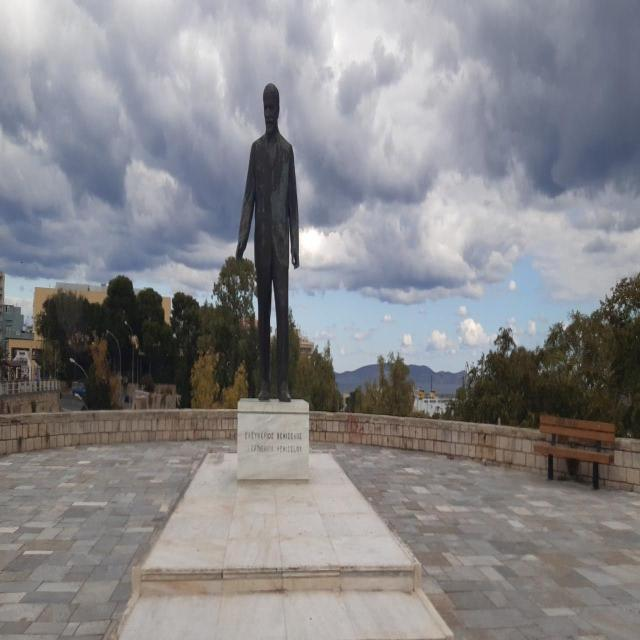Venizelos: (240, 80, 302, 401)
